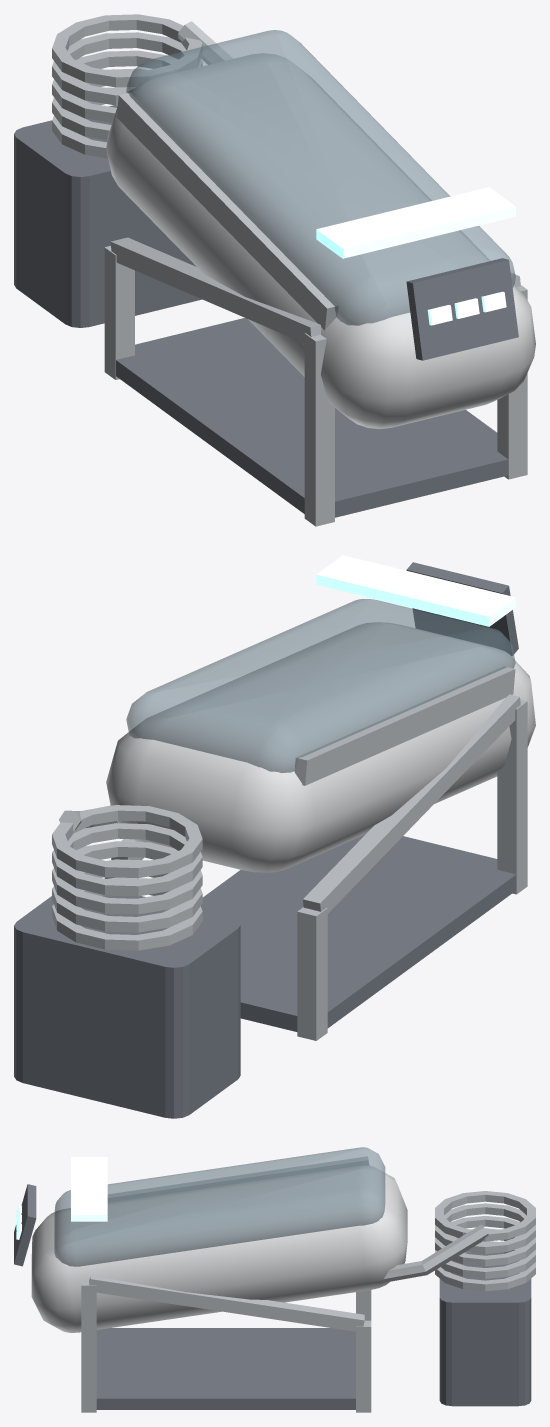
File: ufo-crash-site-and-recovery-facility-cryogenic-pod-089fbfc4__17364.glb
The picture shows the model from 3 angles, top to bottom: view 1: azimuth 30°, elevation 25°; view 2: azimuth 150°, elevation 25°; view 3: azimuth 270°, elevation 25°; orthographic projection. The views are drawn at different scales.
Visible parts, largest first — view 1: cryogenic-pod, lid; view 2: cryogenic-pod, lid; view 3: cryogenic-pod, lid.
Part boxes in pixels (x1=…): cryogenic-pod: x1=14, y1=14, x2=535, y2=526; lid: x1=126, y1=30, x2=515, y2=325; cryogenic-pod: x1=14, y1=555, x2=535, y2=1118; lid: x1=126, y1=599, x2=515, y2=772; cryogenic-pod: x1=14, y1=1156, x2=535, y2=1412; lid: x1=54, y1=1147, x2=385, y2=1266.
Bounding box in the file's own units: 1.1 × 1.51 × 3.43.
